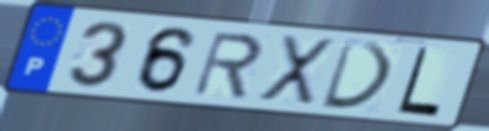3: (65, 19, 130, 89)
6: (133, 24, 198, 96)
D: (318, 37, 397, 112)
L: (393, 44, 444, 119)
R: (190, 30, 267, 101)
X: (254, 32, 338, 110)
